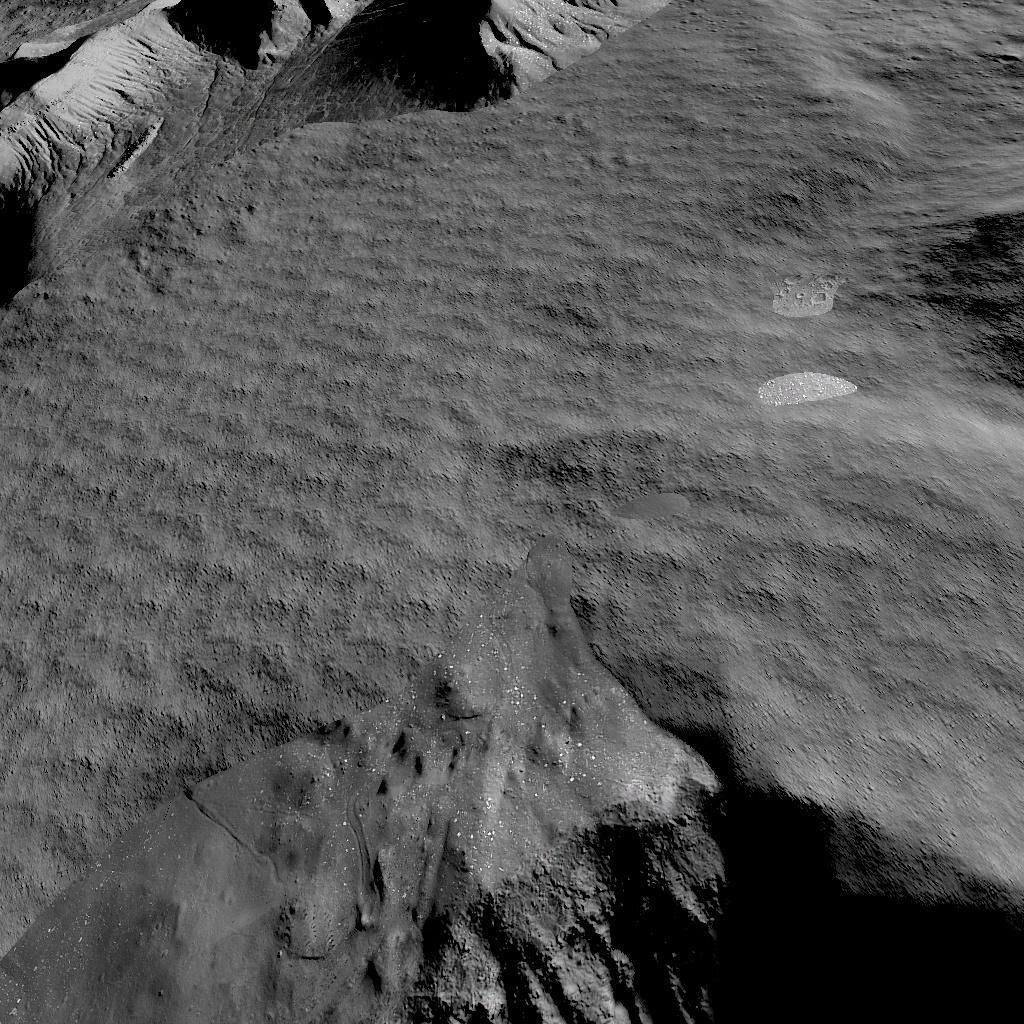Boulders: (0, 0, 675, 308)
Crater: (0, 562, 1024, 1024), (938, 208, 1024, 396)
Plan surface: (0, 322, 914, 550)
